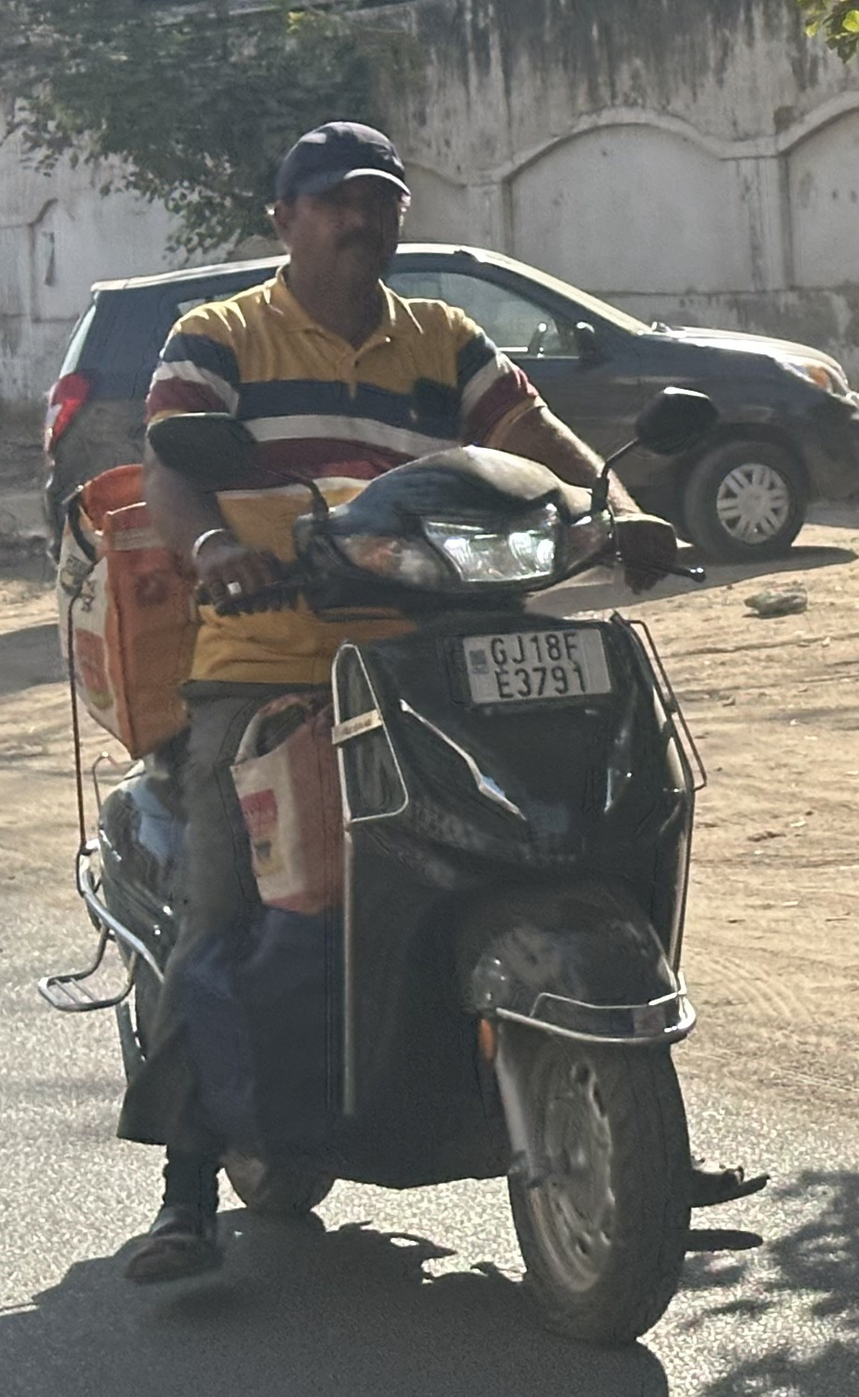BikeWithRider: (32, 122, 777, 1343)
NoHelmet: (270, 125, 417, 295)
